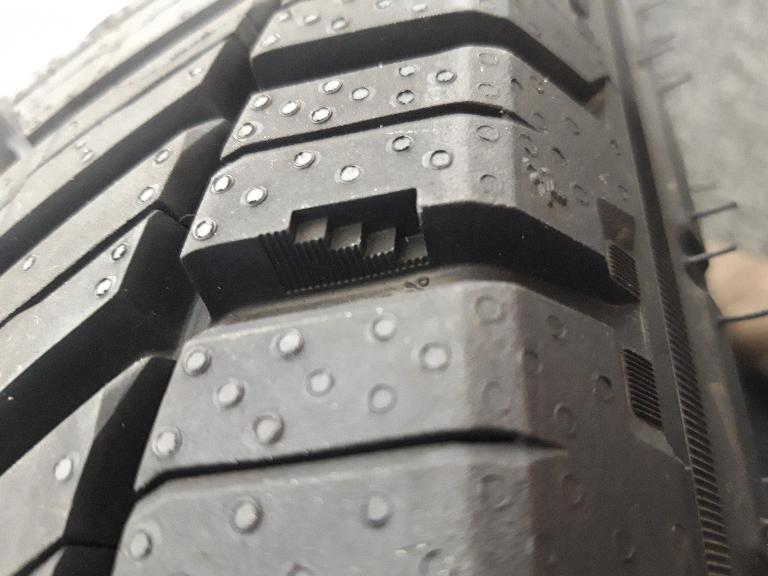temoin:100: (258, 185, 435, 298)
